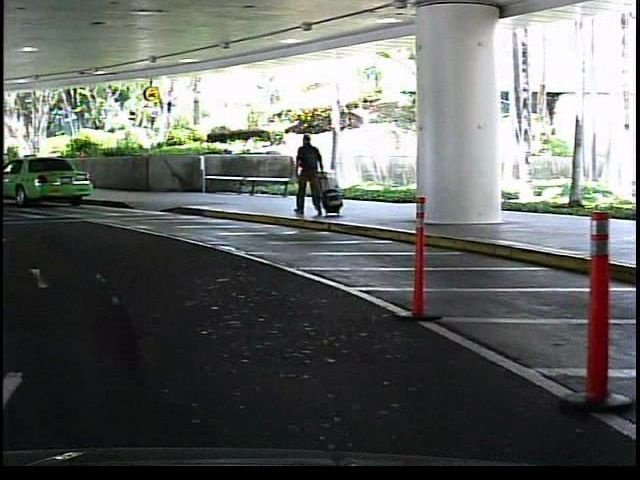person: (289, 125, 328, 222)
